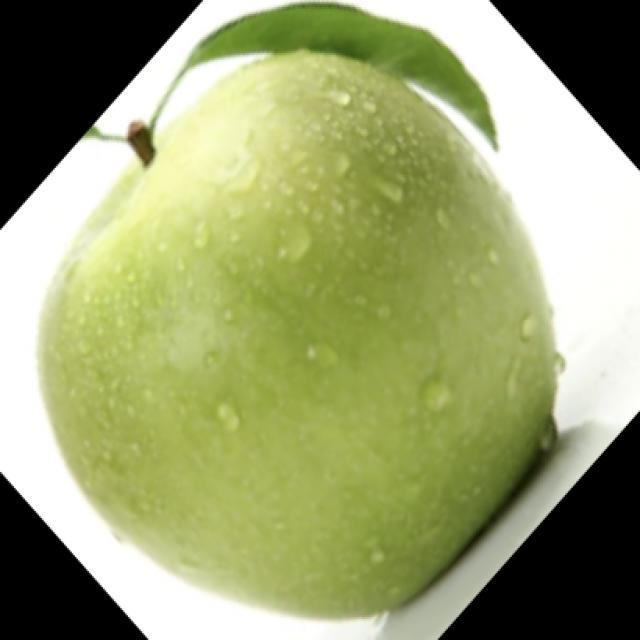Fresh Apple: (37, 59, 555, 614)
